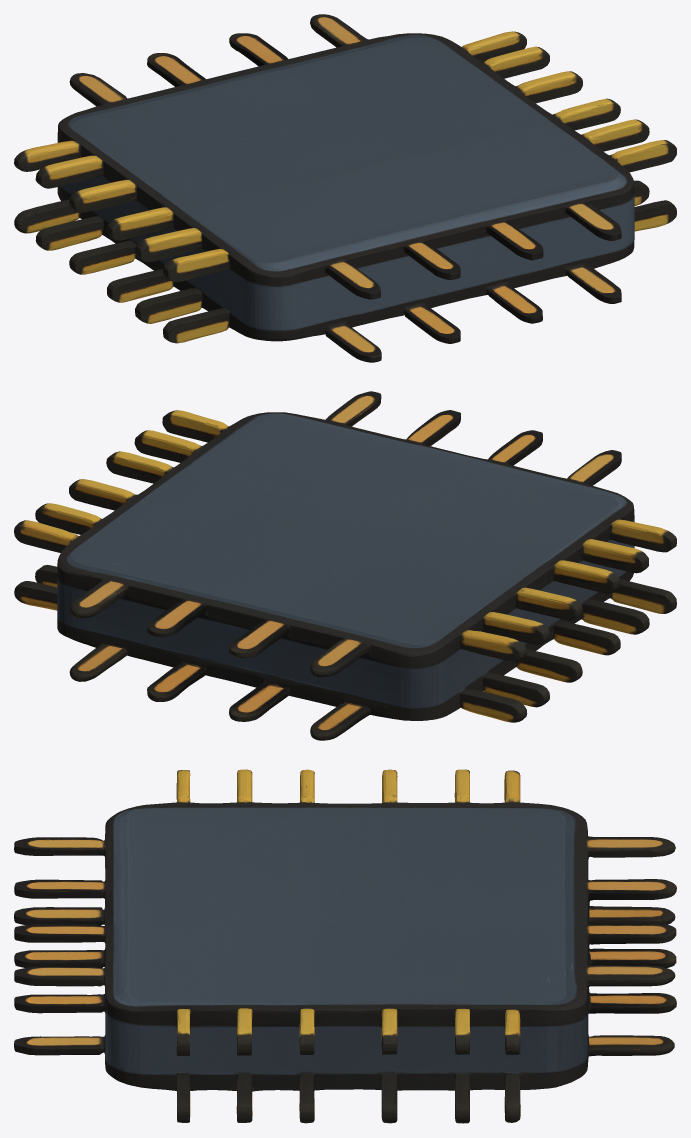
Rendered from tantalo.fbx.
The picture shows the model from 3 angles, top to bottom: view 1: azimuth 30°, elevation 25°; view 2: azimuth 150°, elevation 25°; view 3: azimuth 270°, elevation 25°; orthographic projection. The views are drawn at different scales.
Visible parts, largest first — view 1: geometry_0.001; view 2: geometry_0.001; view 3: geometry_0.001.
Boxes of the visible parts, bbox=[...] form: geometry_0.001: bbox=[14, 14, 676, 362]; geometry_0.001: bbox=[14, 391, 676, 740]; geometry_0.001: bbox=[14, 769, 676, 1123].
Bounding box in the file's own units: 0.2525 × 0.0393 × 0.2588.
1 material, 1 textured.
